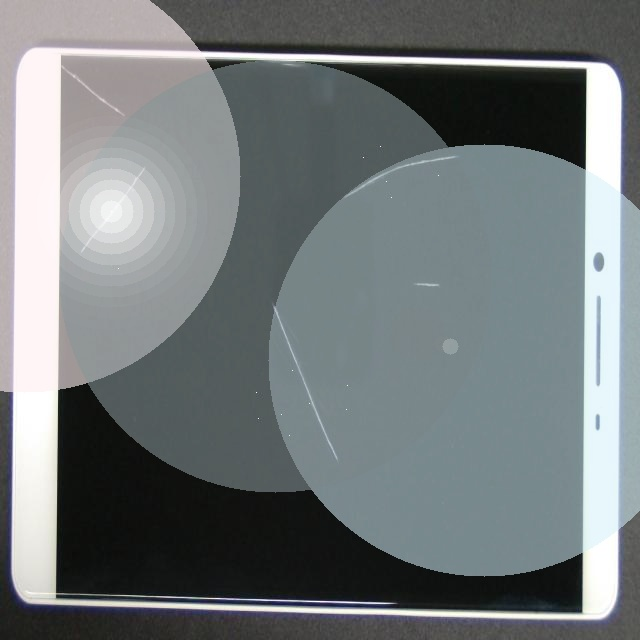scratch: (84, 50, 419, 541), (165, 93, 494, 279), (35, 113, 112, 393), (1, 32, 130, 166)
